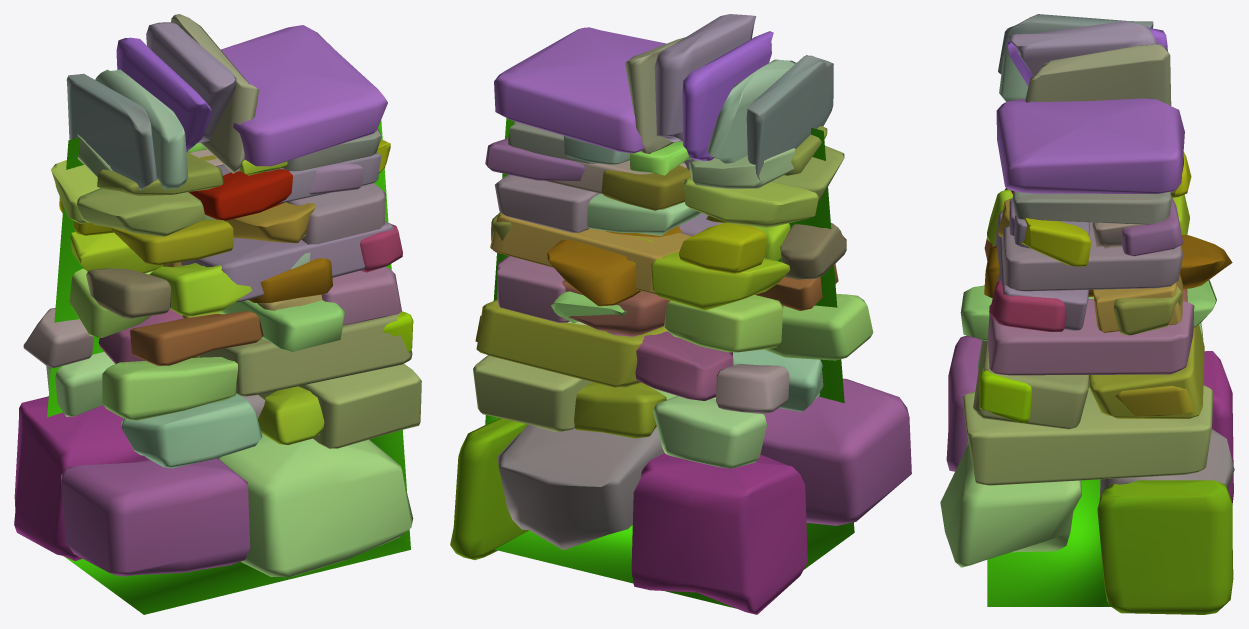
The model's file is SM_WallEnd_A.glb.
3 views of the same model, side by side, from view 1: azimuth 30°, elevation 25°; view 2: azimuth 150°, elevation 25°; view 3: azimuth 270°, elevation 25° (orthographic). The views are drawn at different scales.
Parts seen in each view (by area): view 1: SM_WallEnd_A; view 2: SM_WallEnd_A; view 3: SM_WallEnd_A.
Boxes of the visible parts, x1,y1,x2,y2 form: SM_WallEnd_A: [14, 14, 421, 614]; SM_WallEnd_A: [450, 14, 911, 614]; SM_WallEnd_A: [940, 14, 1234, 614].
Bounding box in the file's own units: 1.17 × 1.79 × 0.94.
